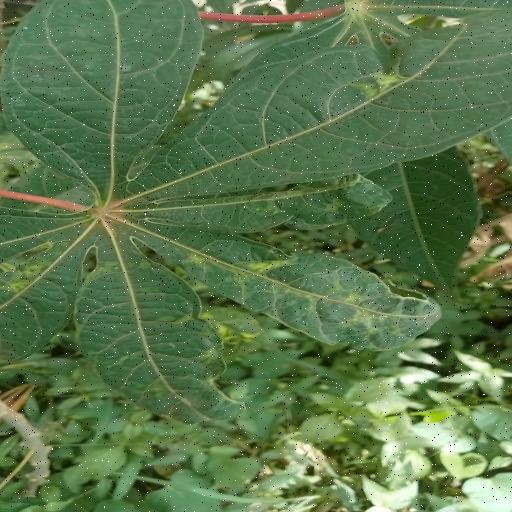Cassava_Mosaic: (0, 0, 512, 430)
